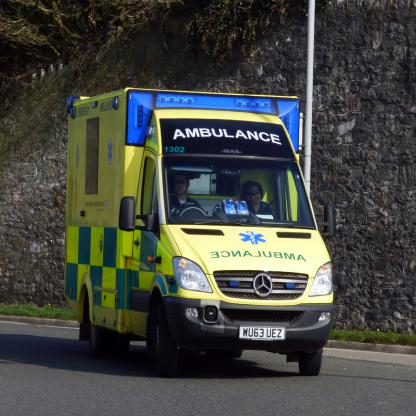Ambulance: (64, 83, 335, 376)
